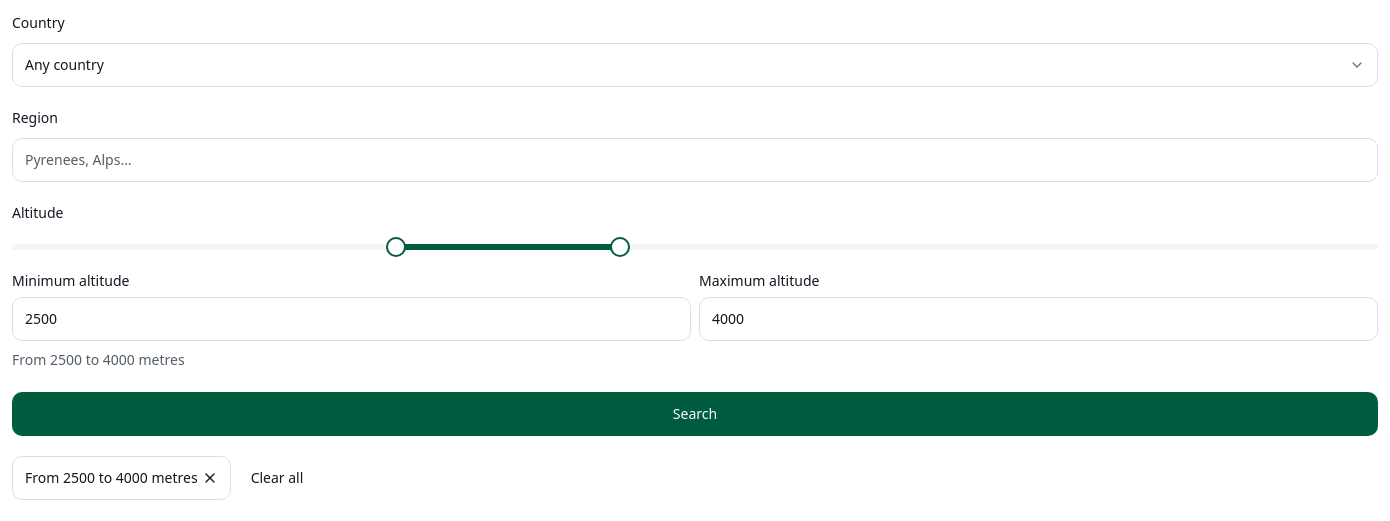
Test: PeakFilters › peakFilters_removingTheAltitudeChip_restoresTheDefaultBounds
Click the button with aria-label "Remove filter From 2500 to 4000 metres" at (121, 478), box [12,456,231,500]
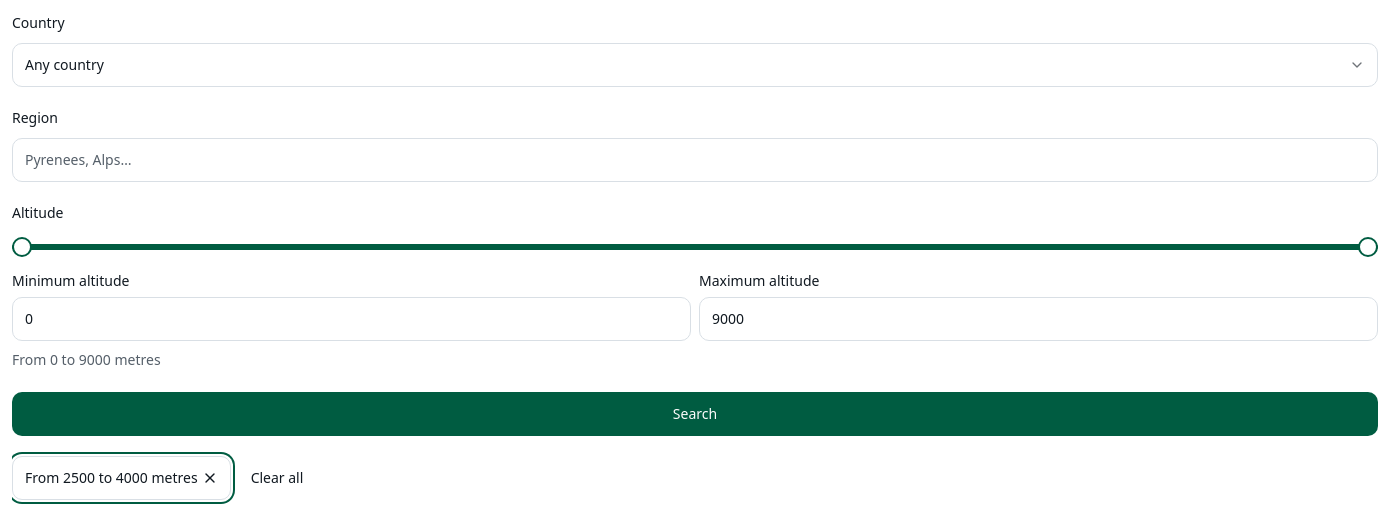
Now the number field labelled "Minimum altitude" holds "0", box [12,297,691,341]
Now the number field labelled "Maximum altitude" holds "9000", box [699,297,1378,341]
